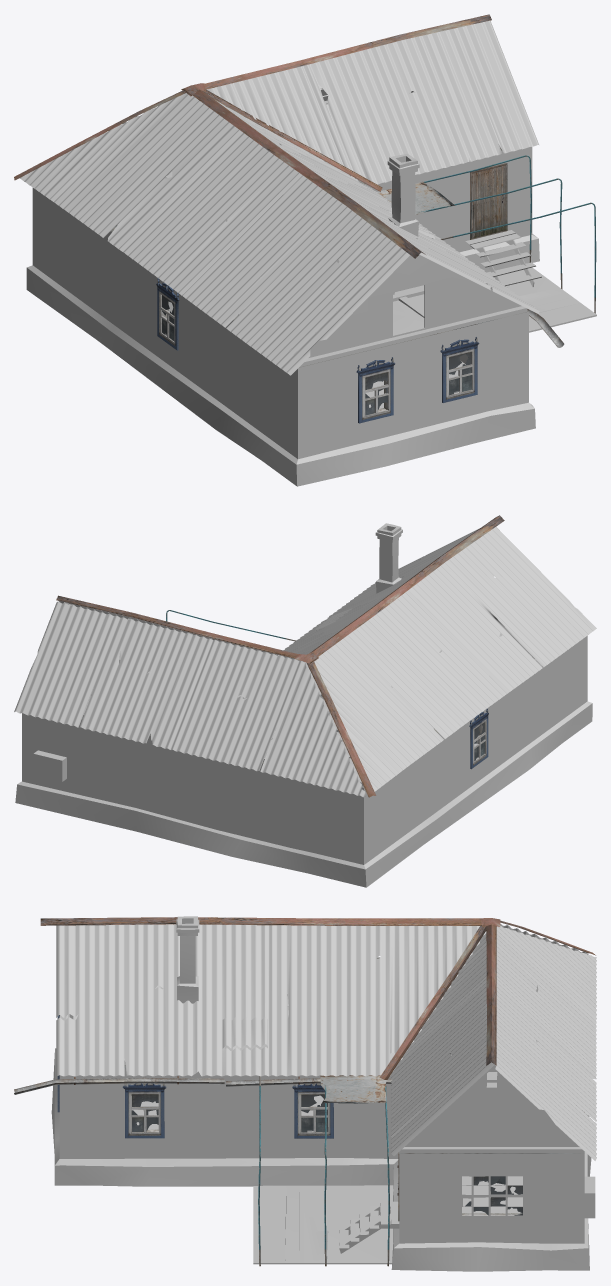
Rendered from Houses_Ready_08_Form2.FBX.
The picture shows the model from 3 angles, top to bottom: view 1: azimuth 30°, elevation 25°; view 2: azimuth 150°, elevation 25°; view 3: azimuth 270°, elevation 25°; orthographic projection. The views are drawn at different scales.
Parts seen in each view (by area): view 1: Roof_02_Form2, Corps_02_8, Foundation_05_2, Attic_02_Form2, Porch_07, Peak_03_Form2, Windows_02 (×2), Door_05, Chimney_01, Windows_02_2; view 2: Roof_02_Form2, Corps_02_8, Foundation_05_2, Peak_03_Form2, Chimney_01, Electrical_Box_03, Windows_02, Attic_02_Form2; view 3: Roof_02_Form2, Corps_02_8, Foundation_05_2, Porch_07, Attic_02_Form2, Peak_03_Form2, Drain_02, Chimney_01, Windows_02_2, Windows_02, Windows_Big_03, Electrical_Box_03.
Part boxes in pixels (x1,y1,x2,y2): Roof_02_Form2: (19, 20, 539, 375); Corps_02_8: (32, 147, 532, 459); Foundation_05_2: (26, 234, 539, 486); Attic_02_Form2: (116, 85, 527, 367); Porch_07: (377, 155, 596, 332); Peak_03_Form2: (14, 14, 491, 258); Windows_02 (×2): (156, 278, 479, 402); Door_05: (472, 165, 505, 238); Chimney_01: (387, 153, 419, 236); Windows_02_2: (356, 357, 395, 423); Roof_02_Form2: (14, 527, 596, 797); Corps_02_8: (22, 635, 587, 864); Foundation_05_2: (15, 701, 592, 887); Peak_03_Form2: (56, 515, 504, 797); Chimney_01: (375, 523, 402, 593); Electrical_Box_03: (33, 750, 66, 781); Windows_02: (469, 708, 488, 769); Attic_02_Form2: (64, 585, 577, 786); Roof_02_Form2: (56, 924, 596, 1160); Corps_02_8: (59, 957, 584, 1243); Foundation_05_2: (51, 1048, 591, 1271); Porch_07: (253, 1075, 399, 1266); Attic_02_Form2: (60, 939, 583, 1152); Peak_03_Form2: (40, 917, 595, 1079); Drain_02: (14, 1076, 392, 1094); Chimney_01: (176, 916, 199, 1003); Windows_02_2: (122, 1083, 166, 1138); Windows_02: (292, 1083, 333, 1138); Windows_Big_03: (460, 1175, 524, 1217); Electrical_Box_03: (584, 1176, 595, 1218).
Size of the model in its own units: 1510 by 1792 by 799.
